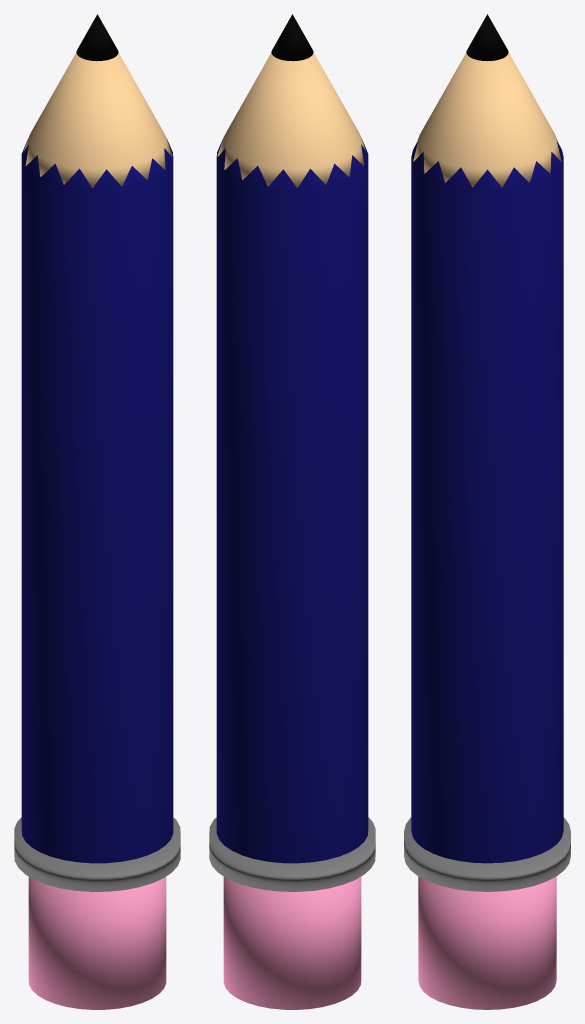
The model's file is Pencil.glb.
3 views of the same model, side by side, from view 1: azimuth 30°, elevation 25°; view 2: azimuth 150°, elevation 25°; view 3: azimuth 270°, elevation 25° (orthographic).
Parts seen in each view (by area): view 1: Cylinder, Cylinder.002, Cone, Cylinder.001, Cone.001; view 2: Cylinder, Cylinder.002, Cone, Cylinder.001, Cone.001; view 3: Cylinder, Cylinder.002, Cone, Cylinder.001, Cone.001.
Part boxes in pixels (box(x1,y1,x2,y2)): Cylinder: box(21, 136, 173, 863); Cylinder.002: box(28, 877, 166, 1009); Cone: box(24, 52, 172, 187); Cylinder.001: box(14, 817, 180, 891); Cone.001: box(76, 14, 118, 61); Cylinder: box(216, 136, 368, 863); Cylinder.002: box(223, 877, 361, 1009); Cone: box(217, 52, 365, 187); Cylinder.001: box(209, 817, 375, 891); Cone.001: box(271, 14, 313, 61); Cylinder: box(411, 141, 563, 863); Cylinder.002: box(418, 876, 556, 1009); Cone: box(413, 52, 561, 187); Cylinder.001: box(404, 817, 570, 891); Cone.001: box(466, 14, 508, 61).
Bounding box in the file's own units: 2.41 × 15.44 × 2.41.
